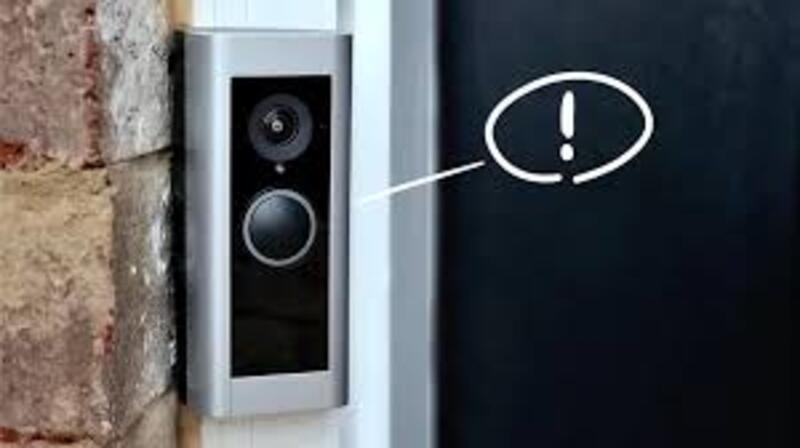doorbell: (174, 20, 357, 416)
